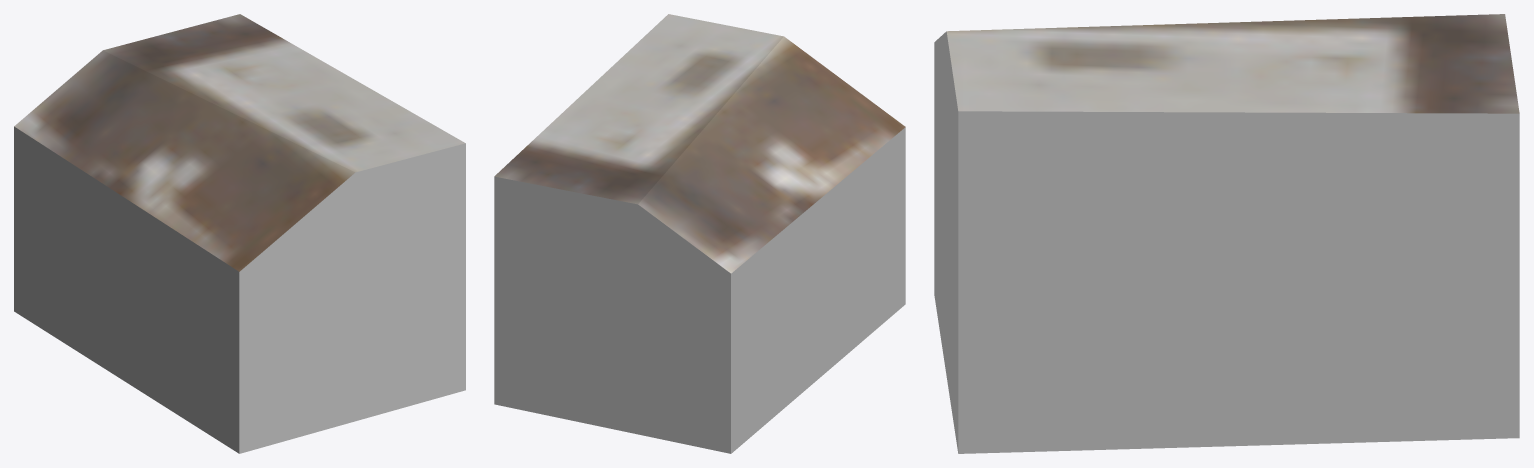
Rendered from DEBW_0010007Txa5.gltf.
3 renders of one model, left to right at view 1: azimuth 30°, elevation 25°; view 2: azimuth 150°, elevation 25°; view 3: azimuth 270°, elevation 25°, orthographic. The views are drawn at different scales.
Visible parts, largest first — view 1: Z_UP; view 2: Z_UP; view 3: Z_UP.
Boxes of the visible parts, box(x1,y1,x2,y2) form: Z_UP: box(14, 14, 465, 453); Z_UP: box(494, 14, 905, 453); Z_UP: box(934, 14, 1519, 453).
Size of the model in its own units: 6.73 by 6.2 by 9.53.
Materials: 2 (1 with a texture image).
